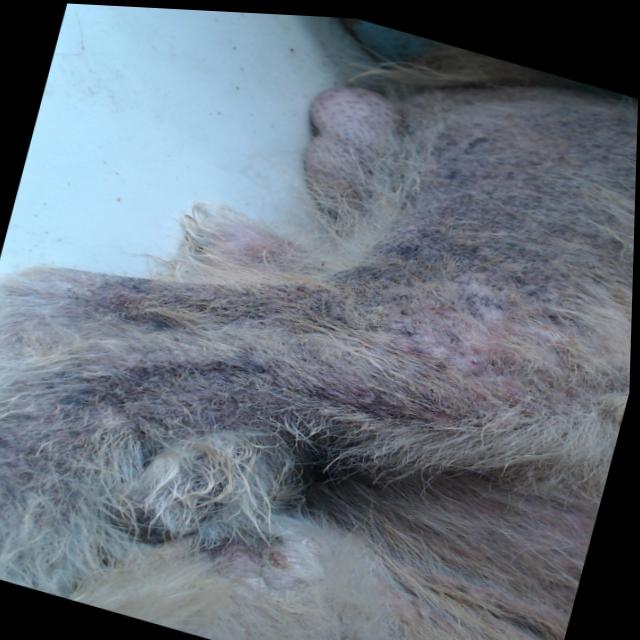demodicosis: (364, 83, 637, 429), (52, 244, 330, 434), (448, 470, 589, 578), (212, 527, 301, 586)
